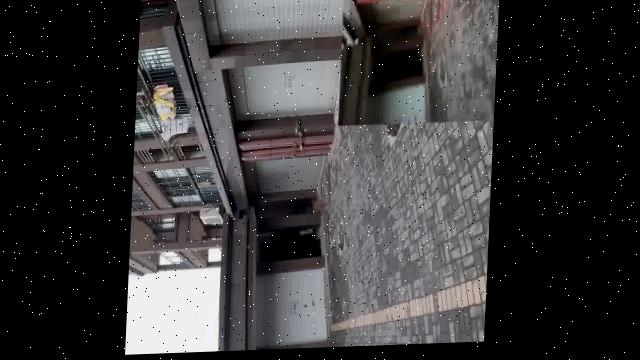drone: (281, 115, 317, 163)
